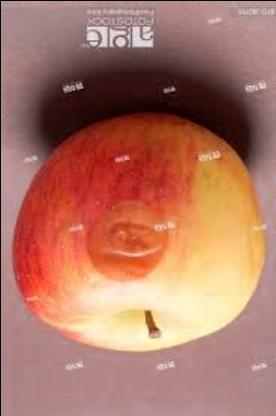defect: (88, 200, 182, 290)
